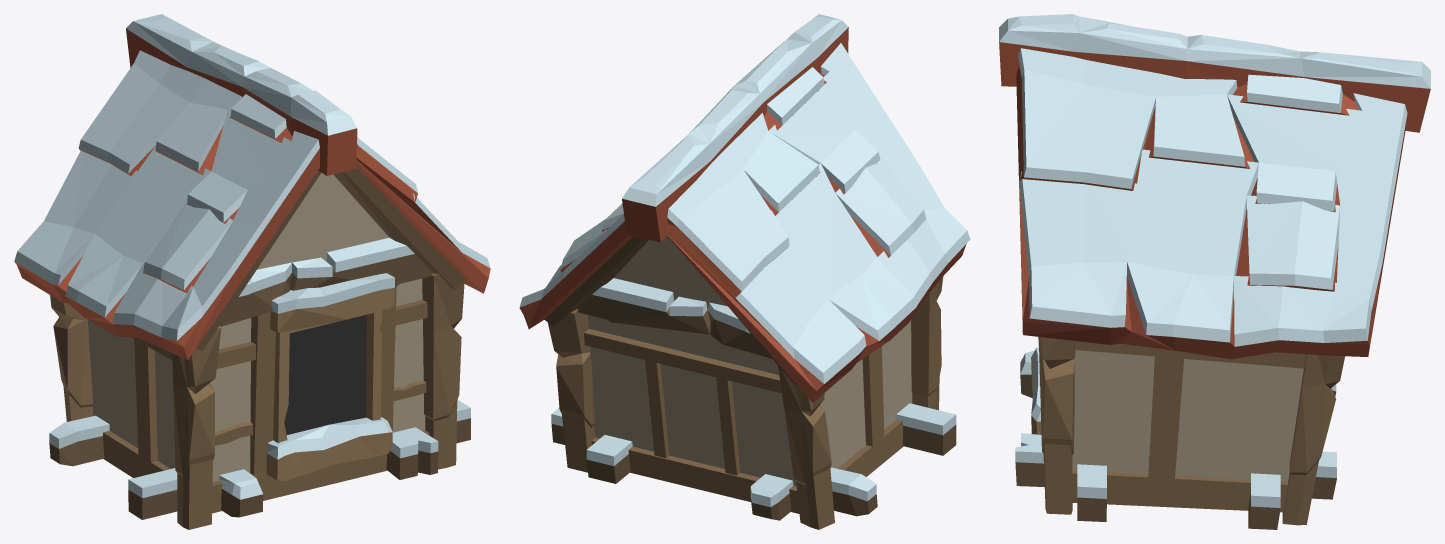
Rendered from SM_Bld_House_Window_02_Snow.gltf.
The picture shows the model from 3 angles, left to right: view 1: azimuth 30°, elevation 25°; view 2: azimuth 150°, elevation 25°; view 3: azimuth 270°, elevation 25°; orthographic projection. The views are drawn at different scales.
Visible parts, largest first — view 1: SM_Bld_House_Window_02_Snow; view 2: SM_Bld_House_Window_02_Snow; view 3: SM_Bld_House_Window_02_Snow.
Boxes of the visible parts, <box> form: SM_Bld_House_Window_02_Snow: <box>14,14,490,529</box>; SM_Bld_House_Window_02_Snow: <box>519,14,970,529</box>; SM_Bld_House_Window_02_Snow: <box>999,14,1430,529</box>.
Size of the model in its own units: 1.83 by 2.15 by 1.93.
Materials: 1 (1 with a texture image).
